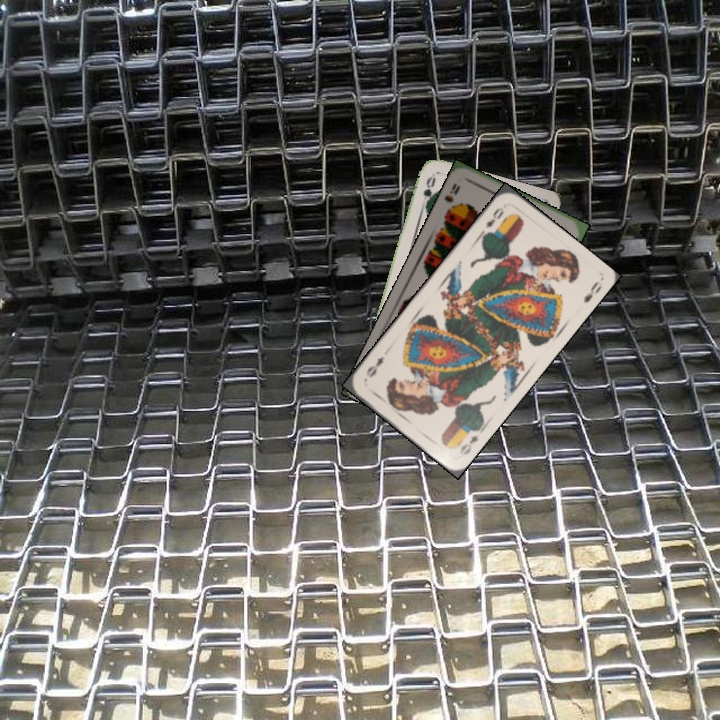EO: (453, 424, 485, 458), (482, 203, 506, 230)
GO: (417, 172, 438, 212)
S9: (440, 179, 463, 217)
